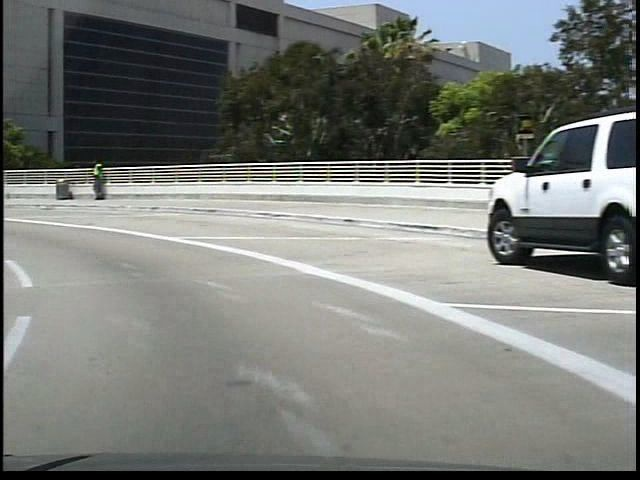person: (85, 154, 104, 201)
